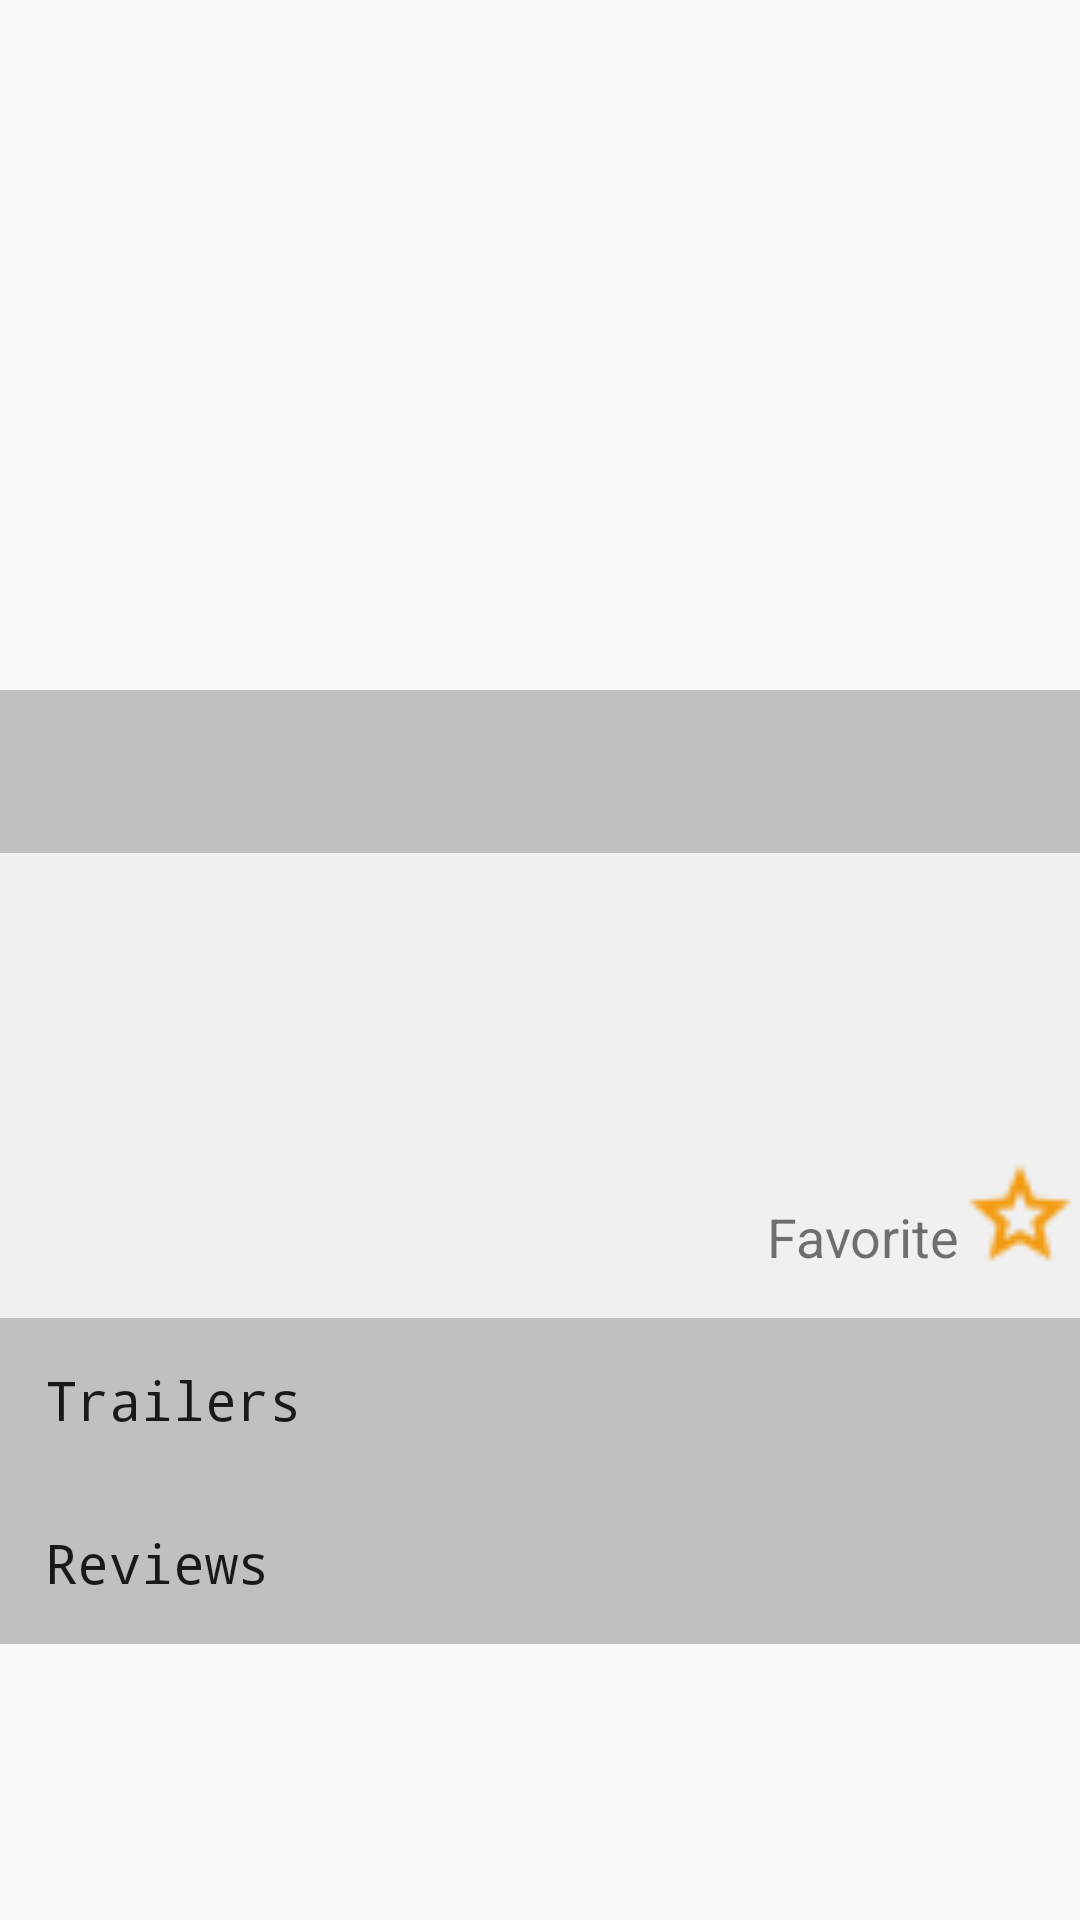

Icon click points for this 1080px×1920px phone screenshot, format (x,y):
star: (1020,1213)
